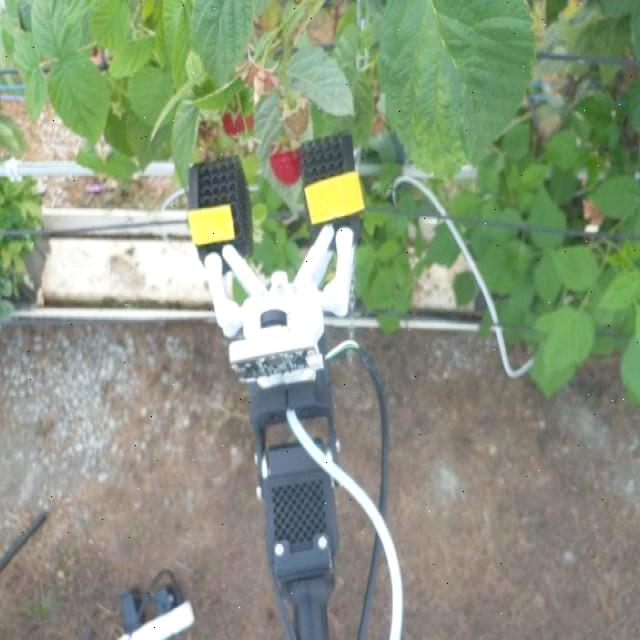Riped berries: (267, 141, 303, 187), (220, 98, 258, 138)
